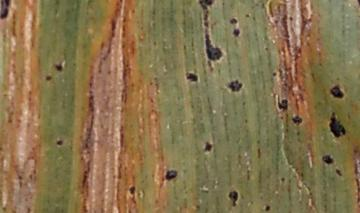tarspot: (197, 1, 224, 62), (328, 110, 346, 139), (224, 78, 244, 94), (328, 84, 345, 100), (275, 94, 289, 112), (227, 188, 240, 207), (1, 1, 12, 20), (185, 70, 198, 83), (321, 154, 335, 166), (164, 169, 178, 180), (291, 115, 303, 126), (333, 166, 342, 177), (231, 27, 240, 38), (128, 184, 136, 196), (53, 63, 63, 72), (204, 141, 212, 152), (54, 139, 63, 148), (229, 16, 237, 26), (44, 74, 52, 82), (263, 204, 270, 212), (272, 19, 279, 26), (243, 13, 250, 20), (271, 71, 277, 78), (288, 15, 294, 22), (279, 176, 285, 183), (355, 1, 360, 8)
